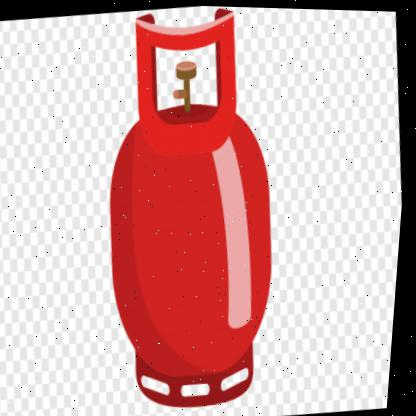gas-tank: (69, 2, 325, 415)
